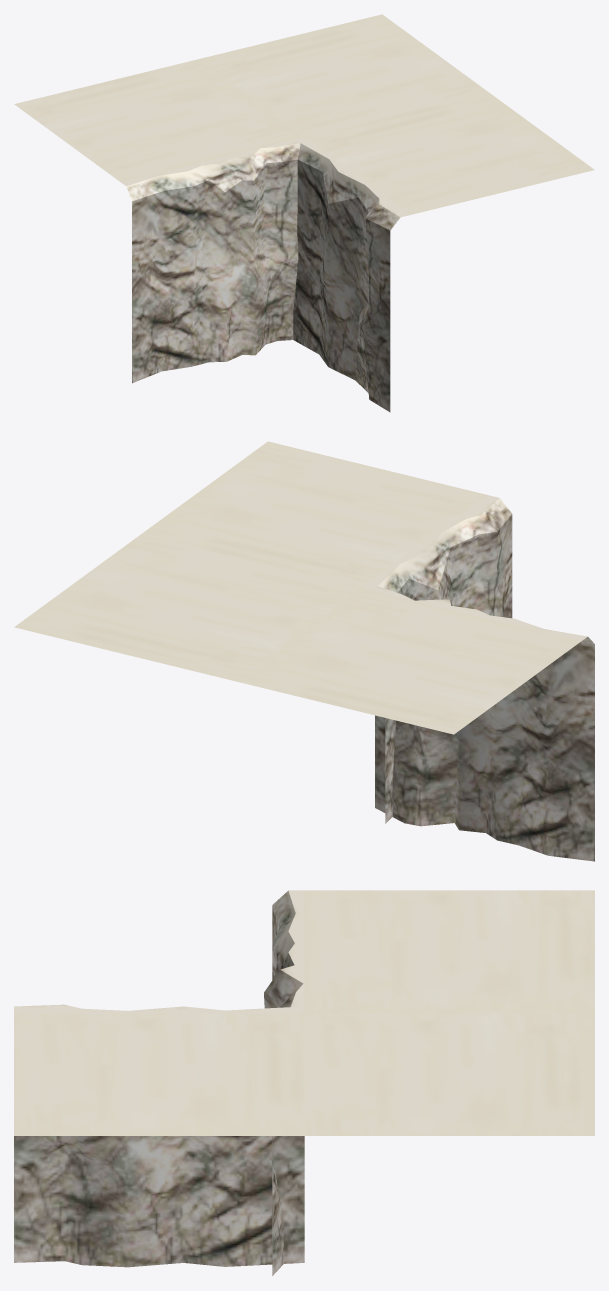
File: TDBlock4.fbx
The picture shows the model from 3 angles, top to bottom: view 1: azimuth 30°, elevation 25°; view 2: azimuth 150°, elevation 25°; view 3: azimuth 270°, elevation 25°; orthographic projection. The views are drawn at different scales.
Visible parts, largest first — view 1: polySurface3; view 2: polySurface3; view 3: polySurface3.
Part boxes in pixels (x1,y1,x2,y2): polySurface3: [14, 14, 594, 412]; polySurface3: [14, 441, 594, 861]; polySurface3: [14, 890, 594, 1275].
Size of the model in its own units: 42.96 by 21.48 by 42.96.
